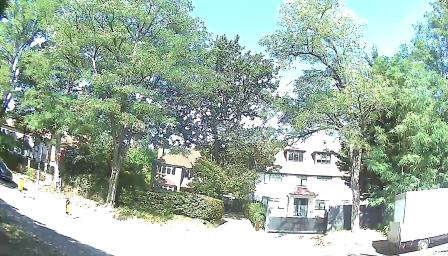Cars: (368, 189, 448, 252)
